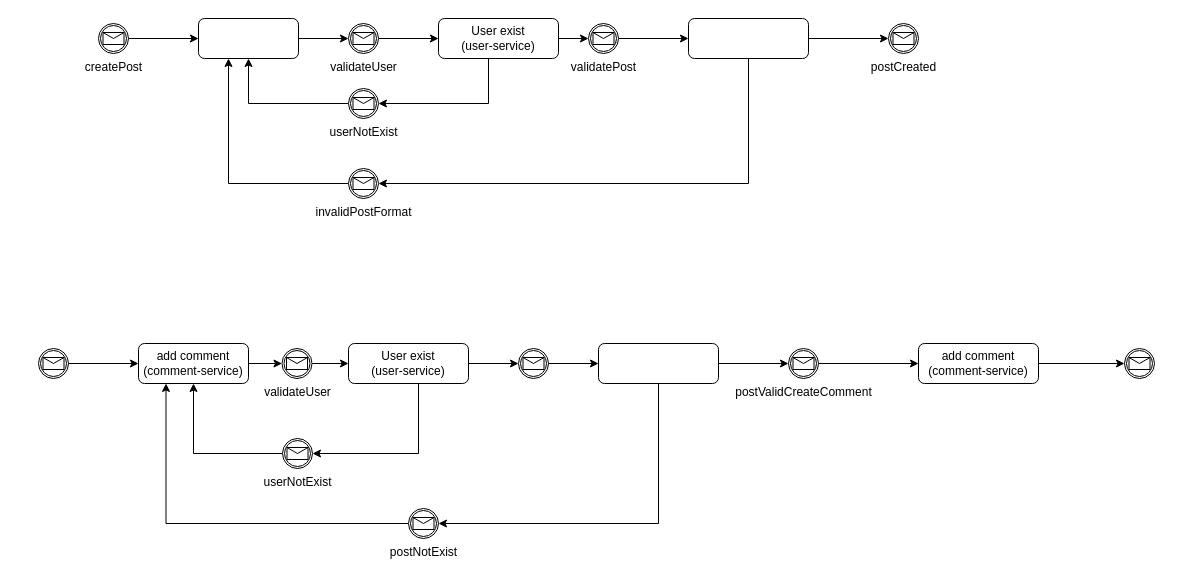
The diagram is 1202 pixels wide and 577 high, and some of its shapes have lost their labels. Each missing label, with the centre of its shape:
"addComment" belongs at pixel 53 363.
"commentCreated" belongs at pixel 1139 363.
"Create Post (post-service)" belongs at pixel 248 38.
"Create Post and content validation (post-service)" belongs at pixel 748 38.
"Validate post (post-service)" belongs at pixel 658 363.
"validatePostExistance" belongs at pixel 533 363.
